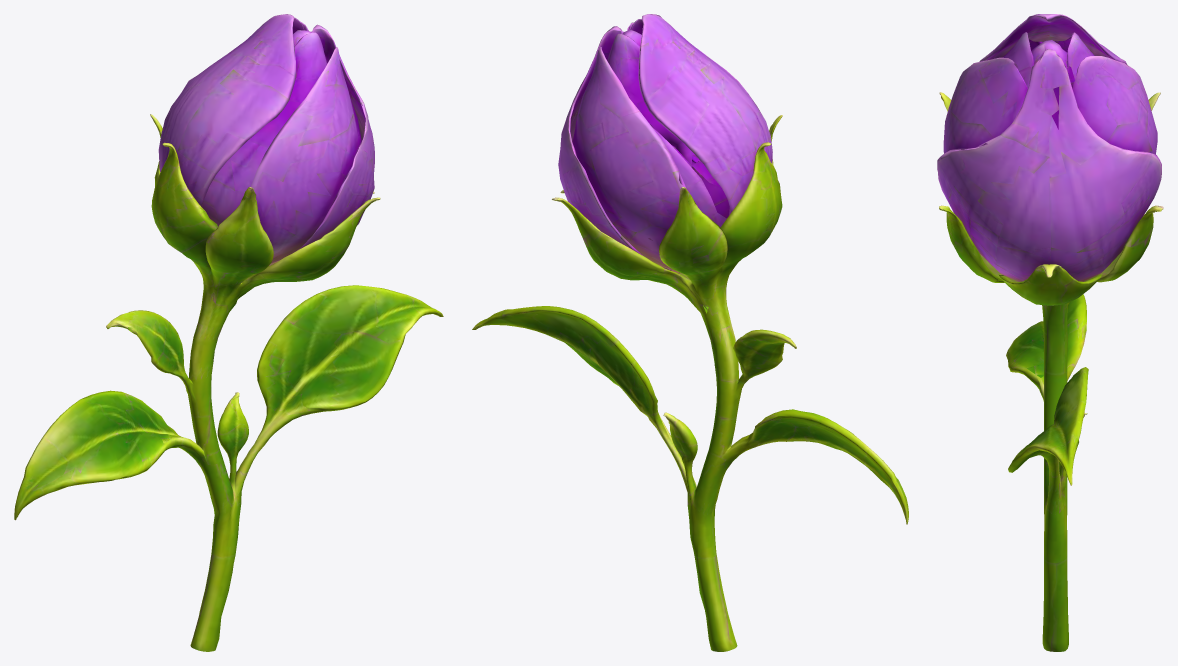
The model's file is bud_purple.glb.
3 views of the same model, side by side, from view 1: azimuth 30°, elevation 25°; view 2: azimuth 150°, elevation 25°; view 3: azimuth 270°, elevation 25° (orthographic). The views are drawn at different scales.
Parts seen in each view (by area): view 1: geometry_0; view 2: geometry_0; view 3: geometry_0.
Boxes of the visible parts, <box> form: geometry_0: <box>14,14,443,651</box>; geometry_0: <box>472,14,908,651</box>; geometry_0: <box>937,14,1163,651</box>.
Size of the model in its own units: 0.7012 by 0.9507 by 0.2881.
Materials: 1 (1 with a texture image).
